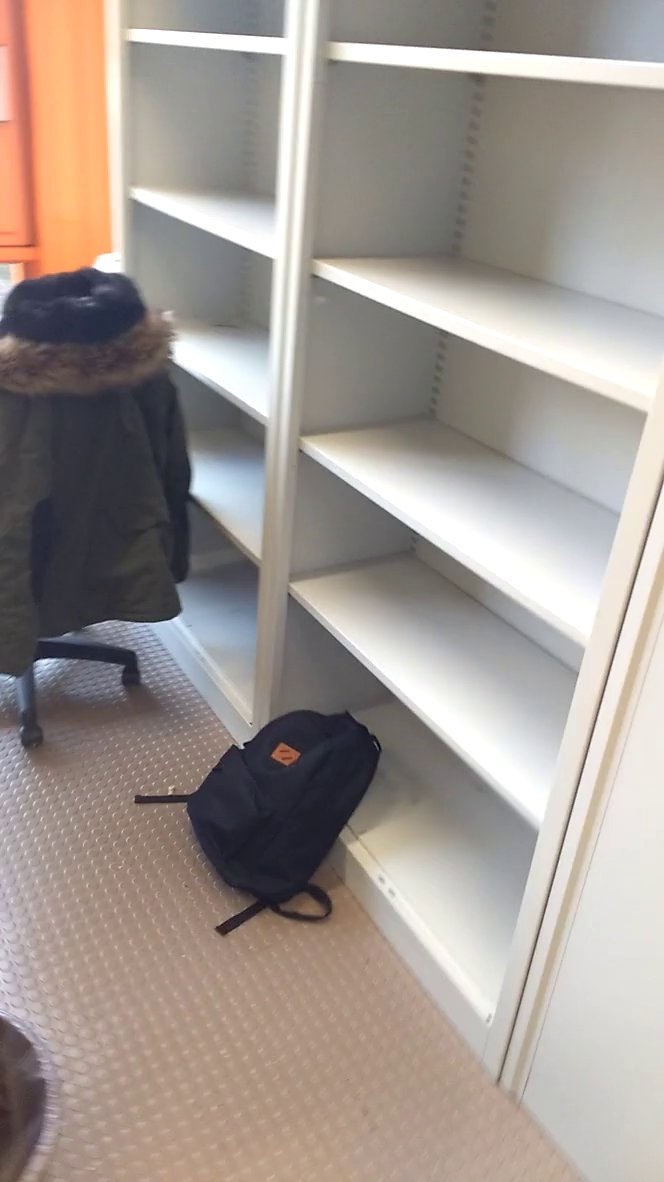bag: (159, 702, 391, 931)
